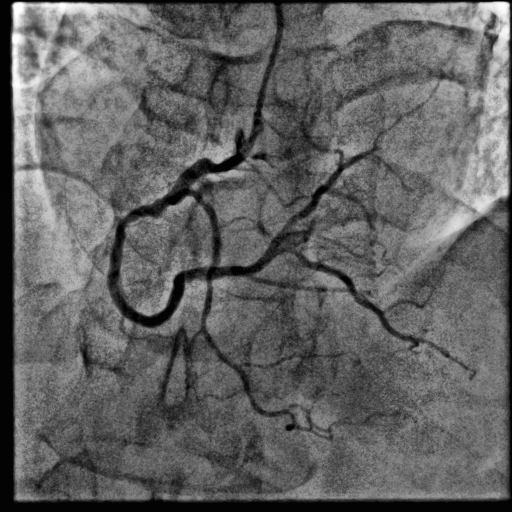pborca: (268, 146, 377, 249)
pda: (276, 248, 474, 372)
rca: (108, 129, 276, 328)
